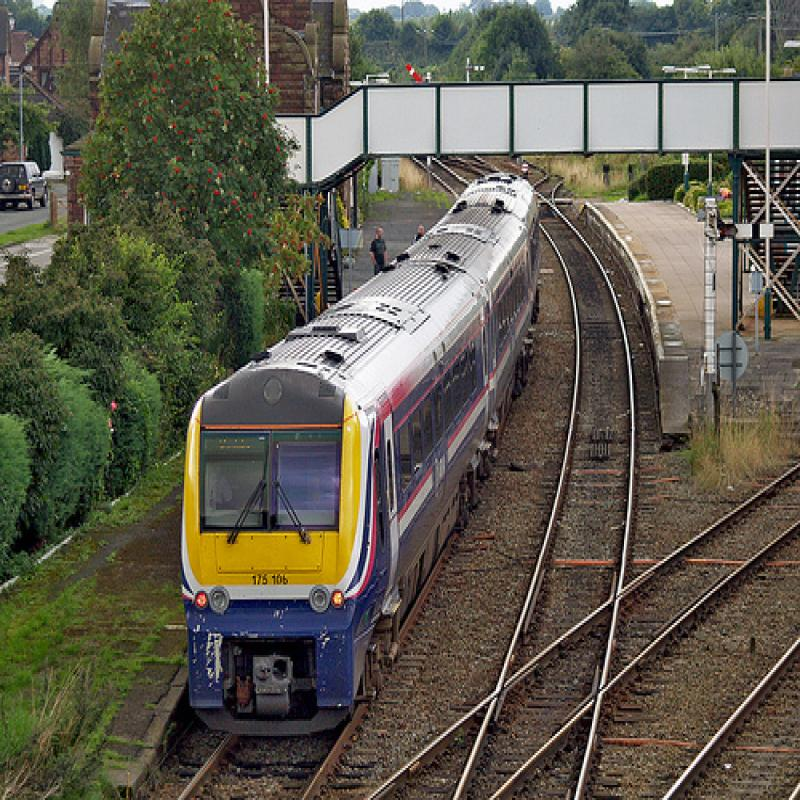train: (185, 172, 545, 750)
